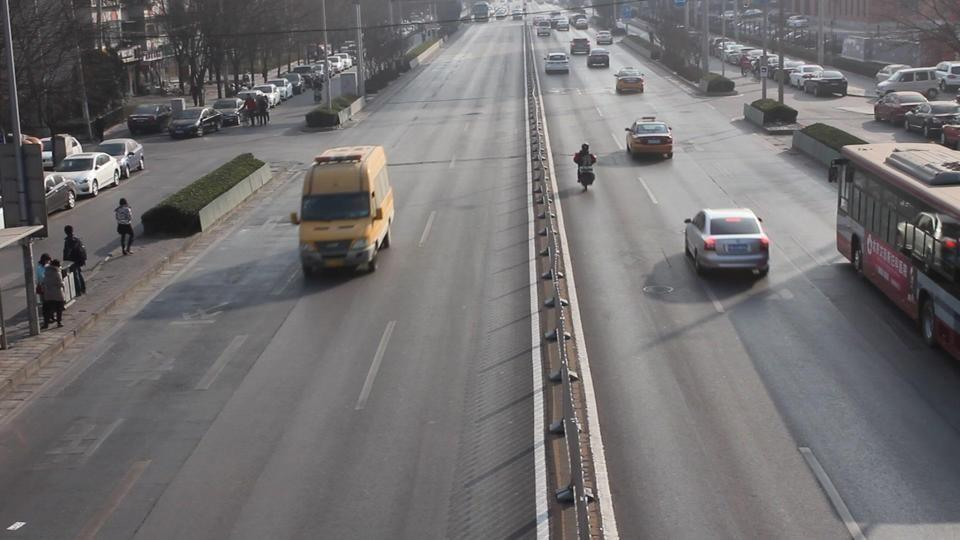car: (682, 207, 771, 280), (55, 152, 121, 198), (875, 66, 946, 100), (904, 100, 960, 139), (625, 117, 674, 160), (872, 90, 931, 125), (96, 139, 146, 178), (789, 65, 847, 97), (167, 106, 223, 139), (38, 133, 83, 170), (127, 102, 179, 134), (44, 173, 79, 213), (236, 91, 271, 124), (207, 98, 245, 125), (241, 84, 277, 110), (614, 66, 646, 95), (265, 79, 293, 104), (543, 50, 571, 75), (587, 49, 609, 69), (570, 36, 591, 55), (534, 19, 553, 37), (592, 28, 611, 45)
